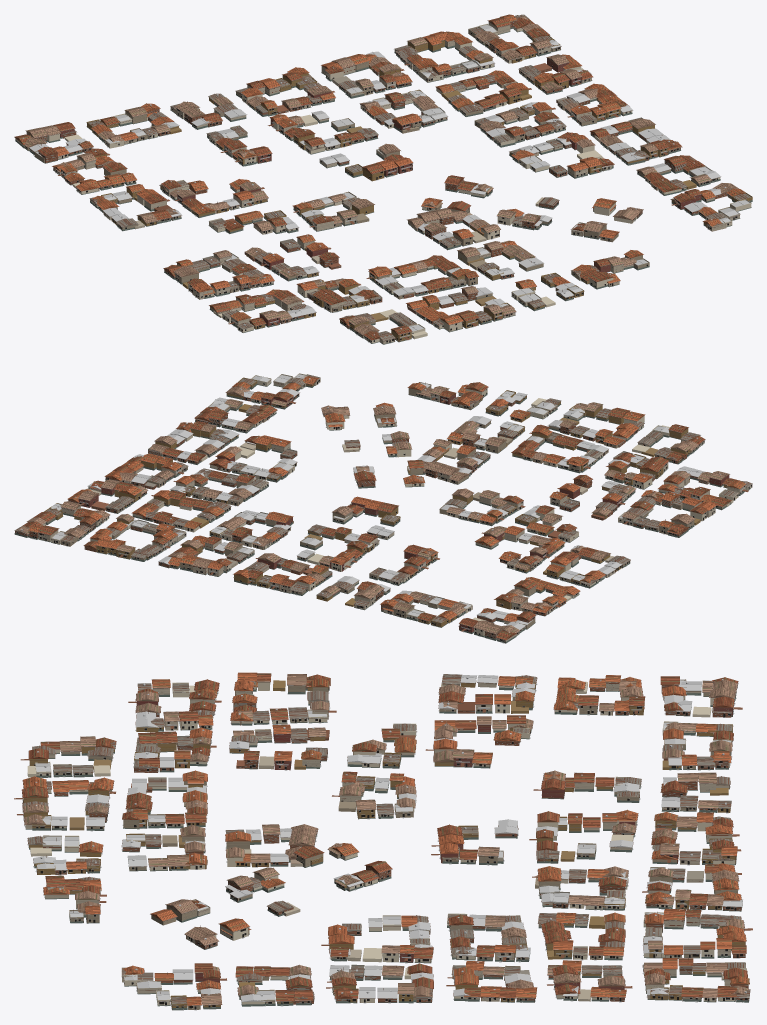
The model's file is city_houses.gltf.
3 renders of one model, top to bottom at view 1: azimuth 30°, elevation 25°; view 2: azimuth 150°, elevation 25°; view 3: azimuth 270°, elevation 25°, orthographic. The views are drawn at different scales.
Visible parts, largest first — view 1: SM_proxy__roof_tile_warm-col, SM_proxy__roof_tile_bleached-col, SM_proxy__roof_tile_faded-col, SM_proxy__roof_metal_zinc-col, SM_proxy__roof_metal_rust-col, SM_proxy__barra_pintada-col, SM_proxy__paint_shop_ochre-col, SM_proxy__wall_whitewash-col, SM_proxy__wall_whitewash_hi-col, SM_proxy__wall_brick-col, SM_proxy__wall_render_raw-col, SM_proxy__metal_rust_dark-col (+4 smaller); view 2: SM_proxy__roof_tile_warm-col, SM_proxy__roof_tile_bleached-col, SM_proxy__roof_tile_faded-col, SM_proxy__roof_metal_zinc-col, SM_proxy__roof_metal_rust-col, SM_proxy__barra_pintada-col, SM_proxy__paint_shop_ochre-col, SM_proxy__wall_whitewash-col, SM_proxy__wall_whitewash_hi-col, SM_proxy__wall_brick-col, SM_proxy__wall_render_raw-col, SM_proxy__metal_rust_dark-col (+4 smaller); view 3: SM_proxy__roof_tile_warm-col, SM_proxy__roof_tile_faded-col, SM_proxy__roof_tile_bleached-col, SM_proxy__roof_metal_zinc-col, SM_proxy__roof_metal_rust-col, SM_proxy__barra_pintada-col, SM_proxy__paint_shop_ochre-col, SM_proxy__wall_whitewash_hi-col, SM_proxy__wall_whitewash-col, SM_proxy__wall_brick-col, SM_proxy__metal_rust_dark-col, SM_proxy__wall_render_raw-col (+4 smaller).
Boxes of the visible parts, left/top/right/bottom form: SM_proxy__roof_tile_warm-col: left=52, top=14, right=745, bottom=324; SM_proxy__roof_tile_bleached-col: left=24, top=16, right=738, bottom=334; SM_proxy__roof_tile_faded-col: left=14, top=17, right=704, bottom=340; SM_proxy__roof_metal_zinc-col: left=22, top=15, right=749, bottom=335; SM_proxy__roof_metal_rust-col: left=63, top=14, right=751, bottom=340; SM_proxy__barra_pintada-col: left=15, top=27, right=752, bottom=344; SM_proxy__paint_shop_ochre-col: left=86, top=35, right=752, bottom=341; SM_proxy__wall_whitewash-col: left=15, top=22, right=740, bottom=344; SM_proxy__wall_whitewash_hi-col: left=47, top=23, right=751, bottom=343; SM_proxy__wall_brick-col: left=26, top=21, right=727, bottom=328; SM_proxy__wall_render_raw-col: left=25, top=26, right=731, bottom=336; SM_proxy__metal_rust_dark-col: left=24, top=20, right=739, bottom=341; SM_proxy__roof_tile_warm-col: left=28, top=376, right=745, bottom=621; SM_proxy__roof_tile_bleached-col: left=19, top=386, right=729, bottom=633; SM_proxy__roof_tile_faded-col: left=21, top=382, right=740, bottom=639; SM_proxy__roof_metal_zinc-col: left=21, top=374, right=746, bottom=632; SM_proxy__roof_metal_rust-col: left=14, top=375, right=752, bottom=626; SM_proxy__barra_pintada-col: left=14, top=382, right=751, bottom=643; SM_proxy__paint_shop_ochre-col: left=44, top=377, right=727, bottom=627; SM_proxy__wall_whitewash-col: left=28, top=374, right=745, bottom=641; SM_proxy__wall_whitewash_hi-col: left=43, top=373, right=751, bottom=635; SM_proxy__wall_brick-col: left=15, top=388, right=709, bottom=638; SM_proxy__wall_render_raw-col: left=46, top=382, right=731, bottom=635; SM_proxy__metal_rust_dark-col: left=28, top=379, right=752, bottom=643; SM_proxy__roof_tile_warm-col: left=23, top=672, right=749, bottom=1005; SM_proxy__roof_tile_faded-col: left=22, top=673, right=747, bottom=1001; SM_proxy__roof_tile_bleached-col: left=23, top=674, right=748, bottom=1004; SM_proxy__roof_metal_zinc-col: left=33, top=675, right=746, bottom=1001; SM_proxy__roof_metal_rust-col: left=22, top=674, right=750, bottom=1004; SM_proxy__barra_pintada-col: left=22, top=683, right=749, bottom=1010; SM_proxy__paint_shop_ochre-col: left=23, top=680, right=745, bottom=1007; SM_proxy__wall_whitewash_hi-col: left=27, top=681, right=746, bottom=1005; SM_proxy__wall_whitewash-col: left=25, top=680, right=732, bottom=1003; SM_proxy__wall_brick-col: left=54, top=685, right=748, bottom=1004; SM_proxy__metal_rust_dark-col: left=21, top=678, right=749, bottom=1009; SM_proxy__wall_render_raw-col: left=53, top=679, right=745, bottom=1009.
Size of the model in its own units: 390 by 20.44 by 380.
